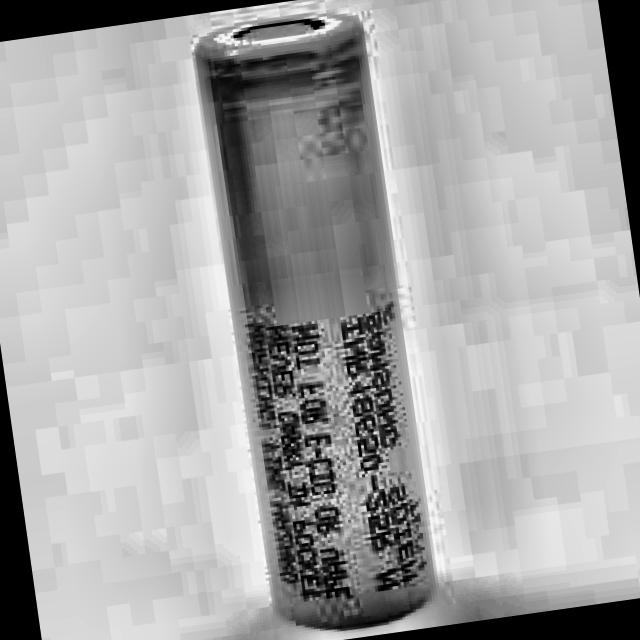Battery: (196, 12, 440, 634)
